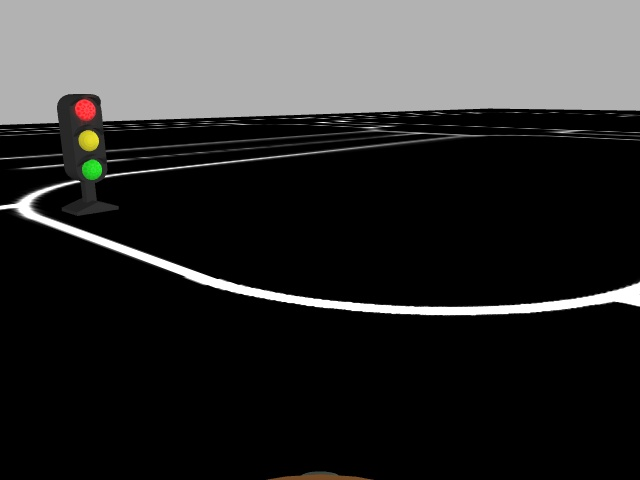red_light: (64, 93, 110, 182)
